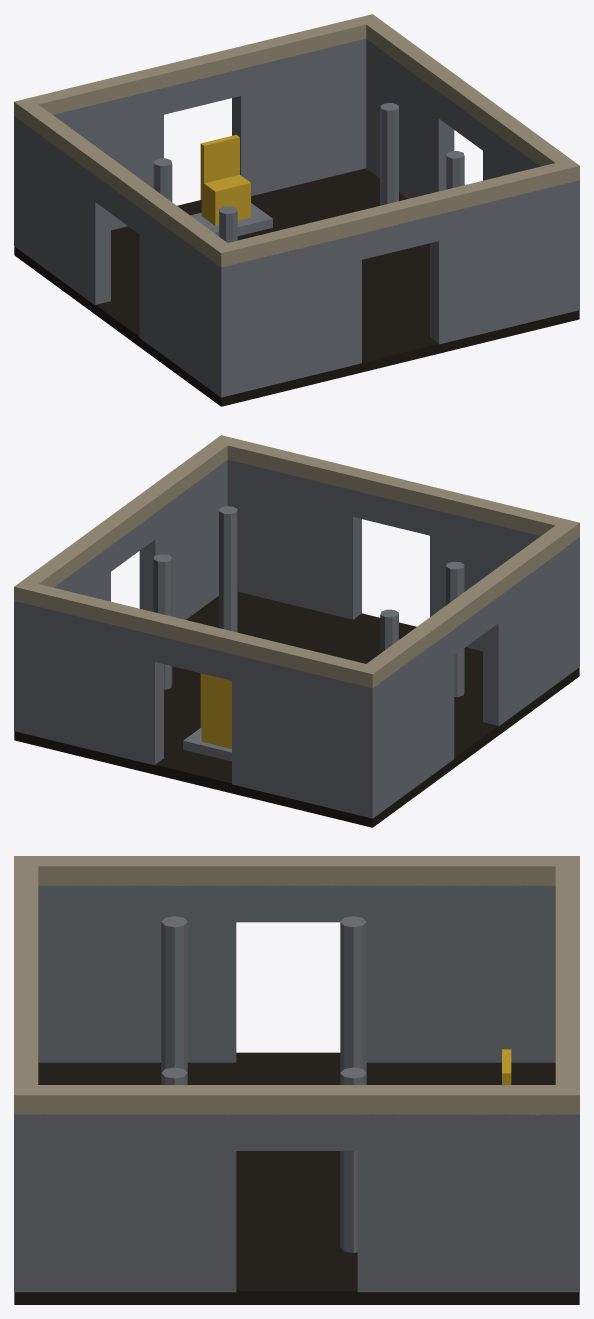
The model's file is ThroneRoomKeep.fbx.
3 views of the same model, one above another, from view 1: azimuth 30°, elevation 25°; view 2: azimuth 150°, elevation 25°; view 3: azimuth 270°, elevation 25° (orthographic). The views are drawn at different scales.
Parts seen in each view (by area): view 1: ThroneRoomKeep; view 2: ThroneRoomKeep; view 3: ThroneRoomKeep.
Part boxes in pixels (box(x1,y1,x2,y2)): ThroneRoomKeep: box(14, 14, 579, 406); ThroneRoomKeep: box(14, 435, 579, 827); ThroneRoomKeep: box(14, 856, 579, 1304).
Size of the model in its own units: 1202 by 492 by 1202.
Materials: 4 (4 with a texture image).
